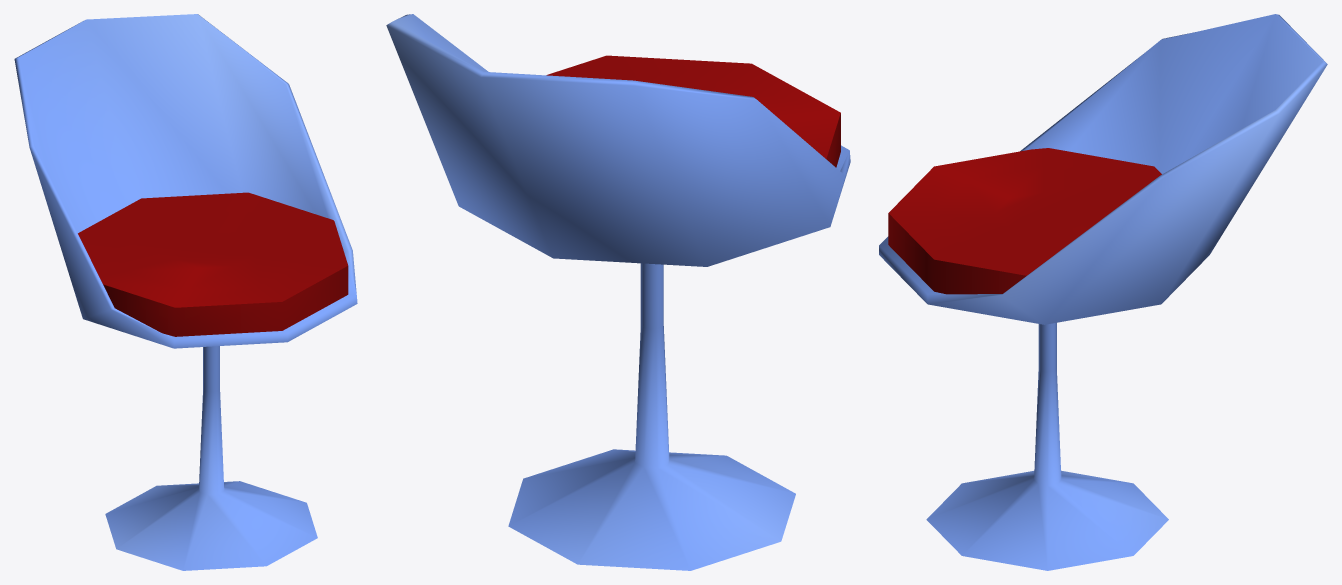
The model's file is Cadeira.fbx.
3 renders of one model, left to right at view 1: azimuth 30°, elevation 25°; view 2: azimuth 150°, elevation 25°; view 3: azimuth 270°, elevation 25°, orthographic. The views are drawn at different scales.
Parts seen in each view (by area): view 1: Cadeira; view 2: Cadeira; view 3: Cadeira.
Part boxes in pixels (bbox=[...]): Cadeira: bbox=[14, 14, 357, 570]; Cadeira: bbox=[386, 14, 850, 570]; Cadeira: bbox=[879, 14, 1327, 570].
Bounding box in the file's own units: 48.62 × 74.31 × 65.98.
